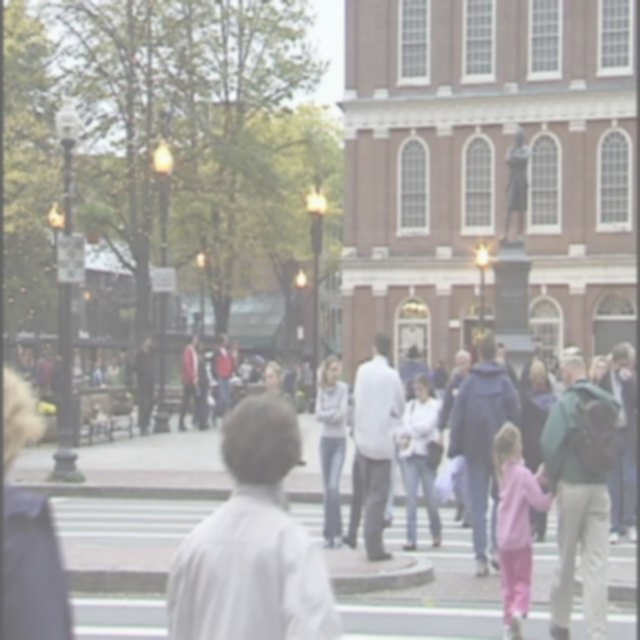pessoa: (154, 373, 352, 639), (538, 344, 624, 639), (0, 417, 86, 639), (446, 326, 520, 578), (489, 413, 562, 639), (350, 326, 409, 564), (0, 326, 133, 419), (339, 404, 406, 552), (594, 342, 639, 548), (400, 366, 448, 554), (311, 348, 351, 547), (518, 358, 558, 546), (437, 348, 472, 529), (491, 126, 532, 250), (394, 339, 452, 402), (178, 329, 212, 434), (282, 356, 307, 470), (130, 331, 154, 426), (236, 352, 284, 399), (210, 332, 236, 417), (518, 342, 552, 406), (612, 338, 639, 416), (190, 336, 212, 431), (489, 340, 524, 393), (584, 349, 612, 391), (544, 350, 568, 398), (311, 358, 347, 386), (263, 359, 286, 397)
